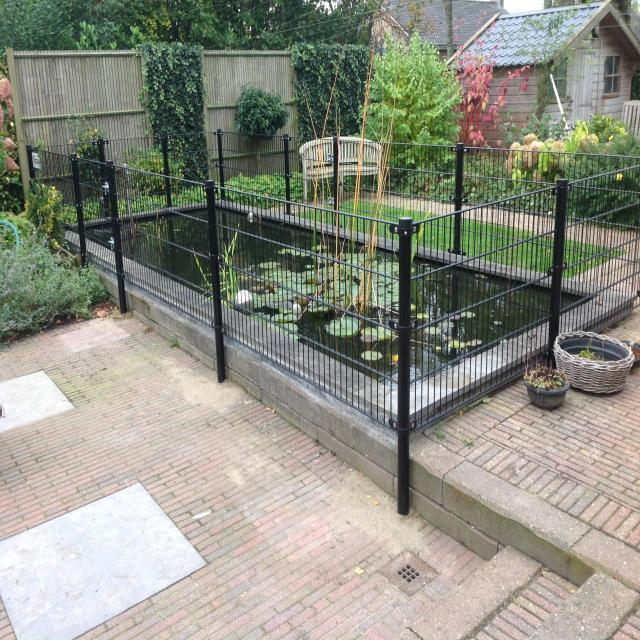fence line: (199, 197, 458, 478), (43, 154, 247, 384), (244, 123, 517, 259), (454, 169, 640, 365)
